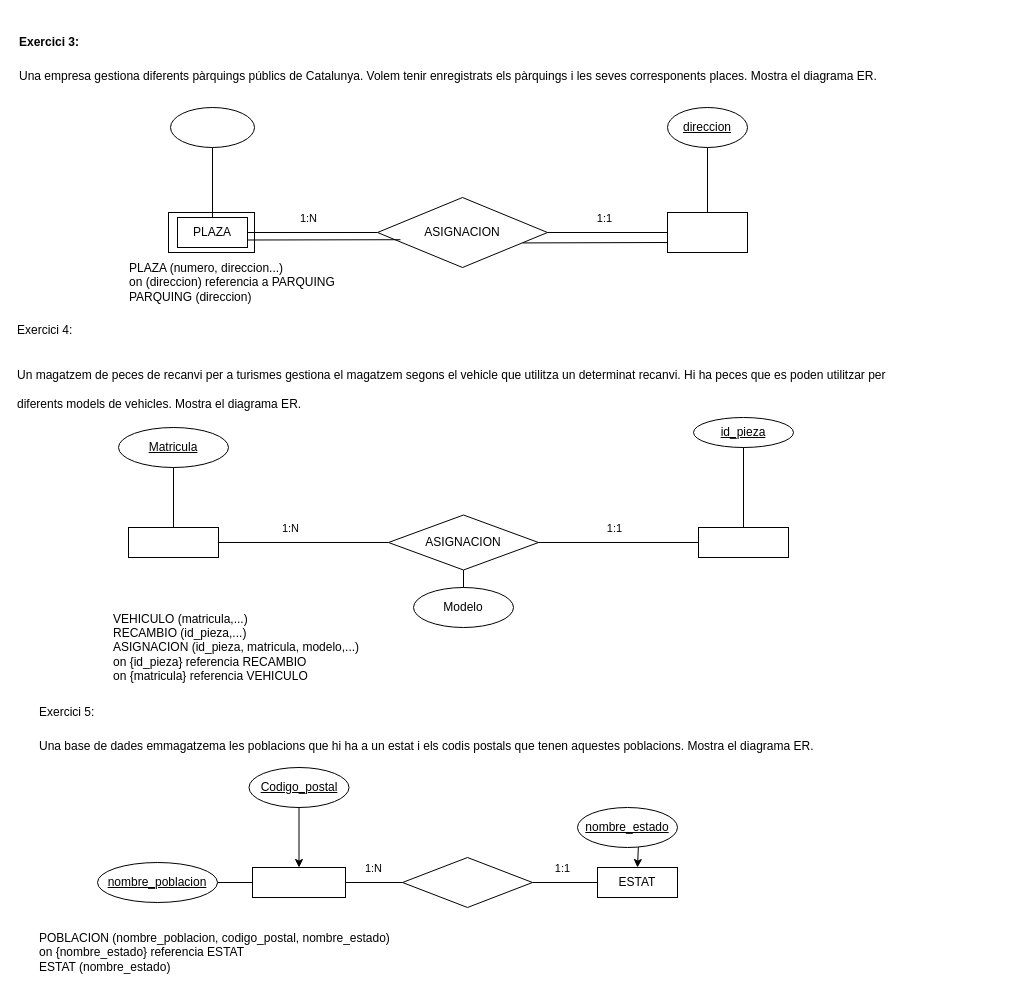
The diagram is 1034 pixels wide and 994 high, and some of its shapes have lost their labels. Each missing label, with the centre of its shape:
"Numero" goes at pixel 212 127.
"PARQUING" goes at pixel 707 232.
"POBLACION" goes at pixel 299 882.
"PROCEDENCIA" goes at pixel 467 882.
"RECAMBIO" goes at pixel 743 542.
"VEHICULO" goes at pixel 173 542.
